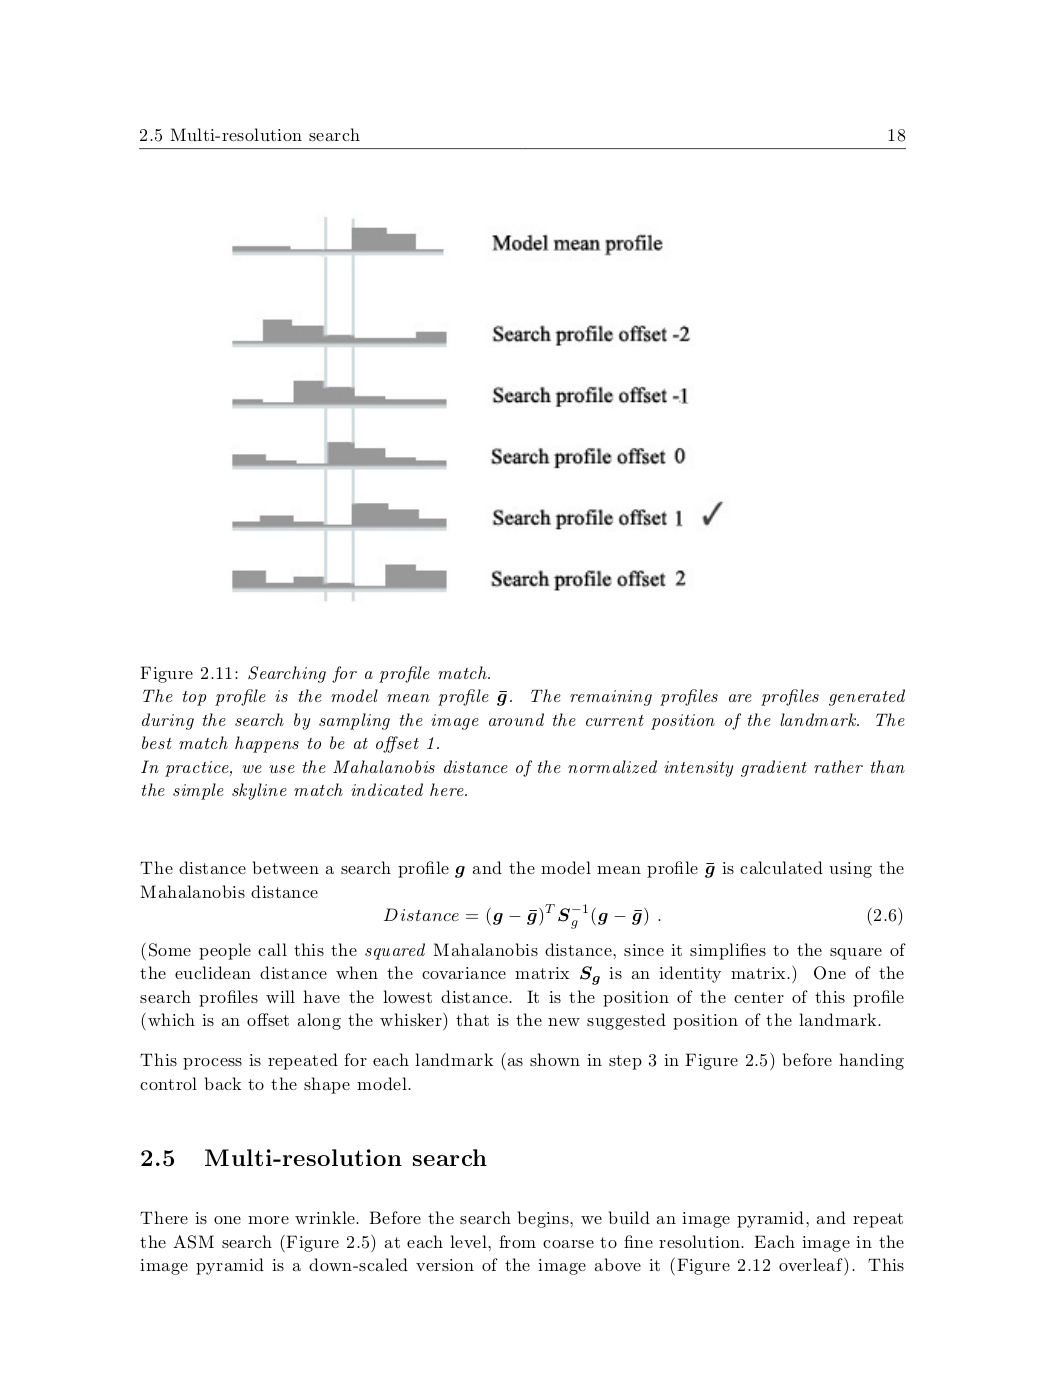figure: (232, 217, 723, 600)
formula: (383, 902, 902, 929)
